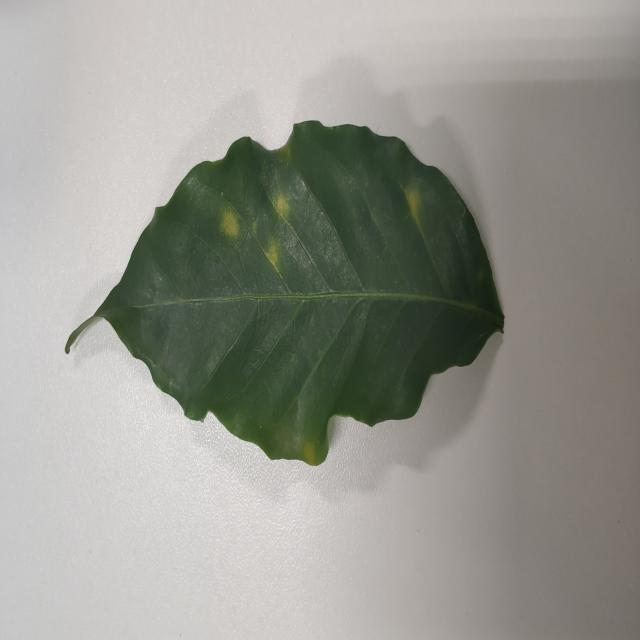Enfermedad-Roya: (63, 121, 507, 469)
